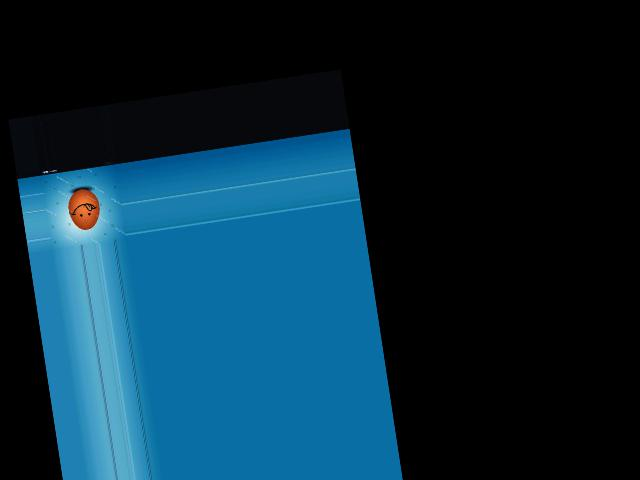egg: (66, 187, 103, 232)
